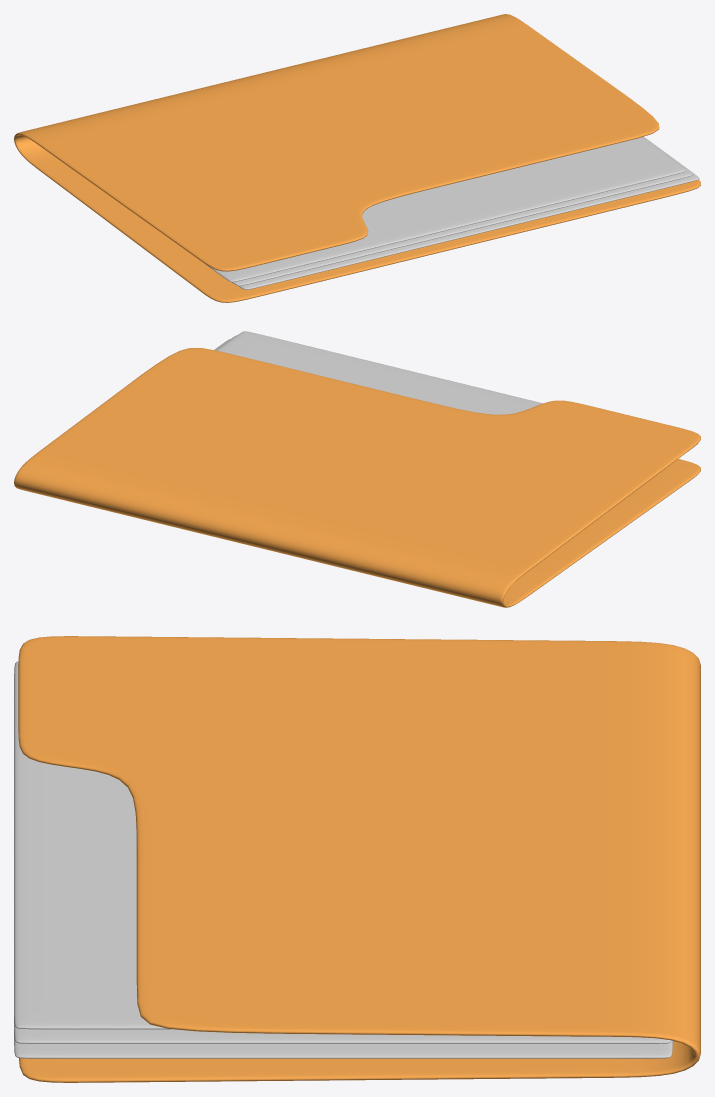
The model's file is generic_folder.glb.
3 renders of one model, top to bottom at view 1: azimuth 30°, elevation 25°; view 2: azimuth 150°, elevation 25°; view 3: azimuth 270°, elevation 25°, orthographic. The views are drawn at different scales.
Visible parts, largest first — view 1: Folder; view 2: Folder; view 3: Folder.
Boxes of the visible parts, x1,y1,x2,y2 form: Folder: (14,14,700,302); Folder: (14,331,700,607); Folder: (14,636,700,1082).
Bounding box in the file's own units: 1.23 × 0.0819 × 0.9075.
